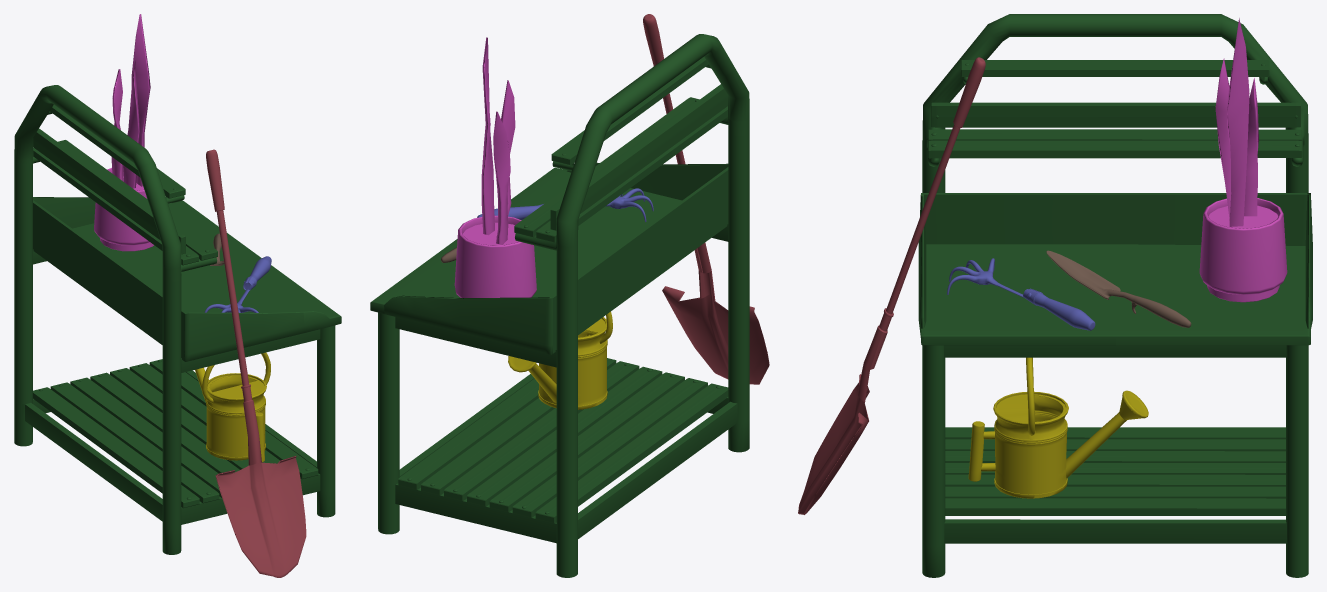
The model's file is Cash_6Props.fbx.
The picture shows the model from 3 angles, left to right: view 1: azimuth 30°, elevation 25°; view 2: azimuth 150°, elevation 25°; view 3: azimuth 270°, elevation 25°; orthographic projection. The views are drawn at different scales.
Visible parts, largest first — view 1: Potting_Bench, Shovel, Watering_can, Planter, Claw_Rake; view 2: Potting_Bench, Planter, Shovel, Watering_can, Claw_Rake; view 3: Potting_Bench, Planter, Watering_can, Shovel, Hand_shovel, Claw_Rake.
Boxes of the visible parts, x1,y1,x2,y2 form: Potting_Bench: [14, 85, 341, 554]; Shovel: [206, 149, 306, 577]; Watering_can: [195, 352, 270, 462]; Planter: [94, 14, 153, 251]; Claw_Rake: [204, 256, 271, 312]; Potting_Bench: [370, 34, 749, 577]; Planter: [454, 37, 536, 297]; Shovel: [643, 14, 769, 384]; Watering_can: [508, 311, 612, 409]; Claw_Rake: [477, 188, 653, 222]; Potting_Bench: [918, 14, 1312, 577]; Planter: [1199, 18, 1287, 302]; Watering_can: [968, 357, 1148, 498]; Shovel: [798, 57, 985, 514]; Hand_shovel: [1046, 250, 1191, 327]; Claw_Rake: [947, 258, 1095, 330].
Bounding box in the file's own units: 6.73 × 15.73 × 14.16.
